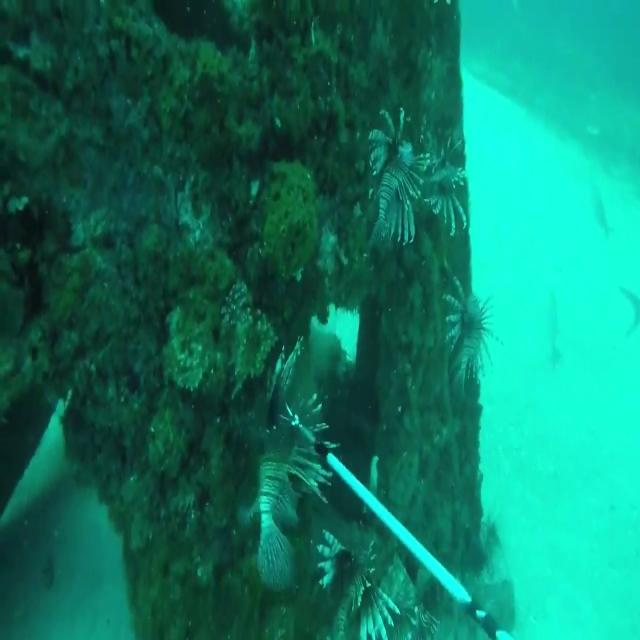Aslan Baligi: (240, 330, 338, 598), (360, 89, 429, 266), (314, 522, 399, 640), (441, 268, 494, 396), (428, 131, 468, 244)
